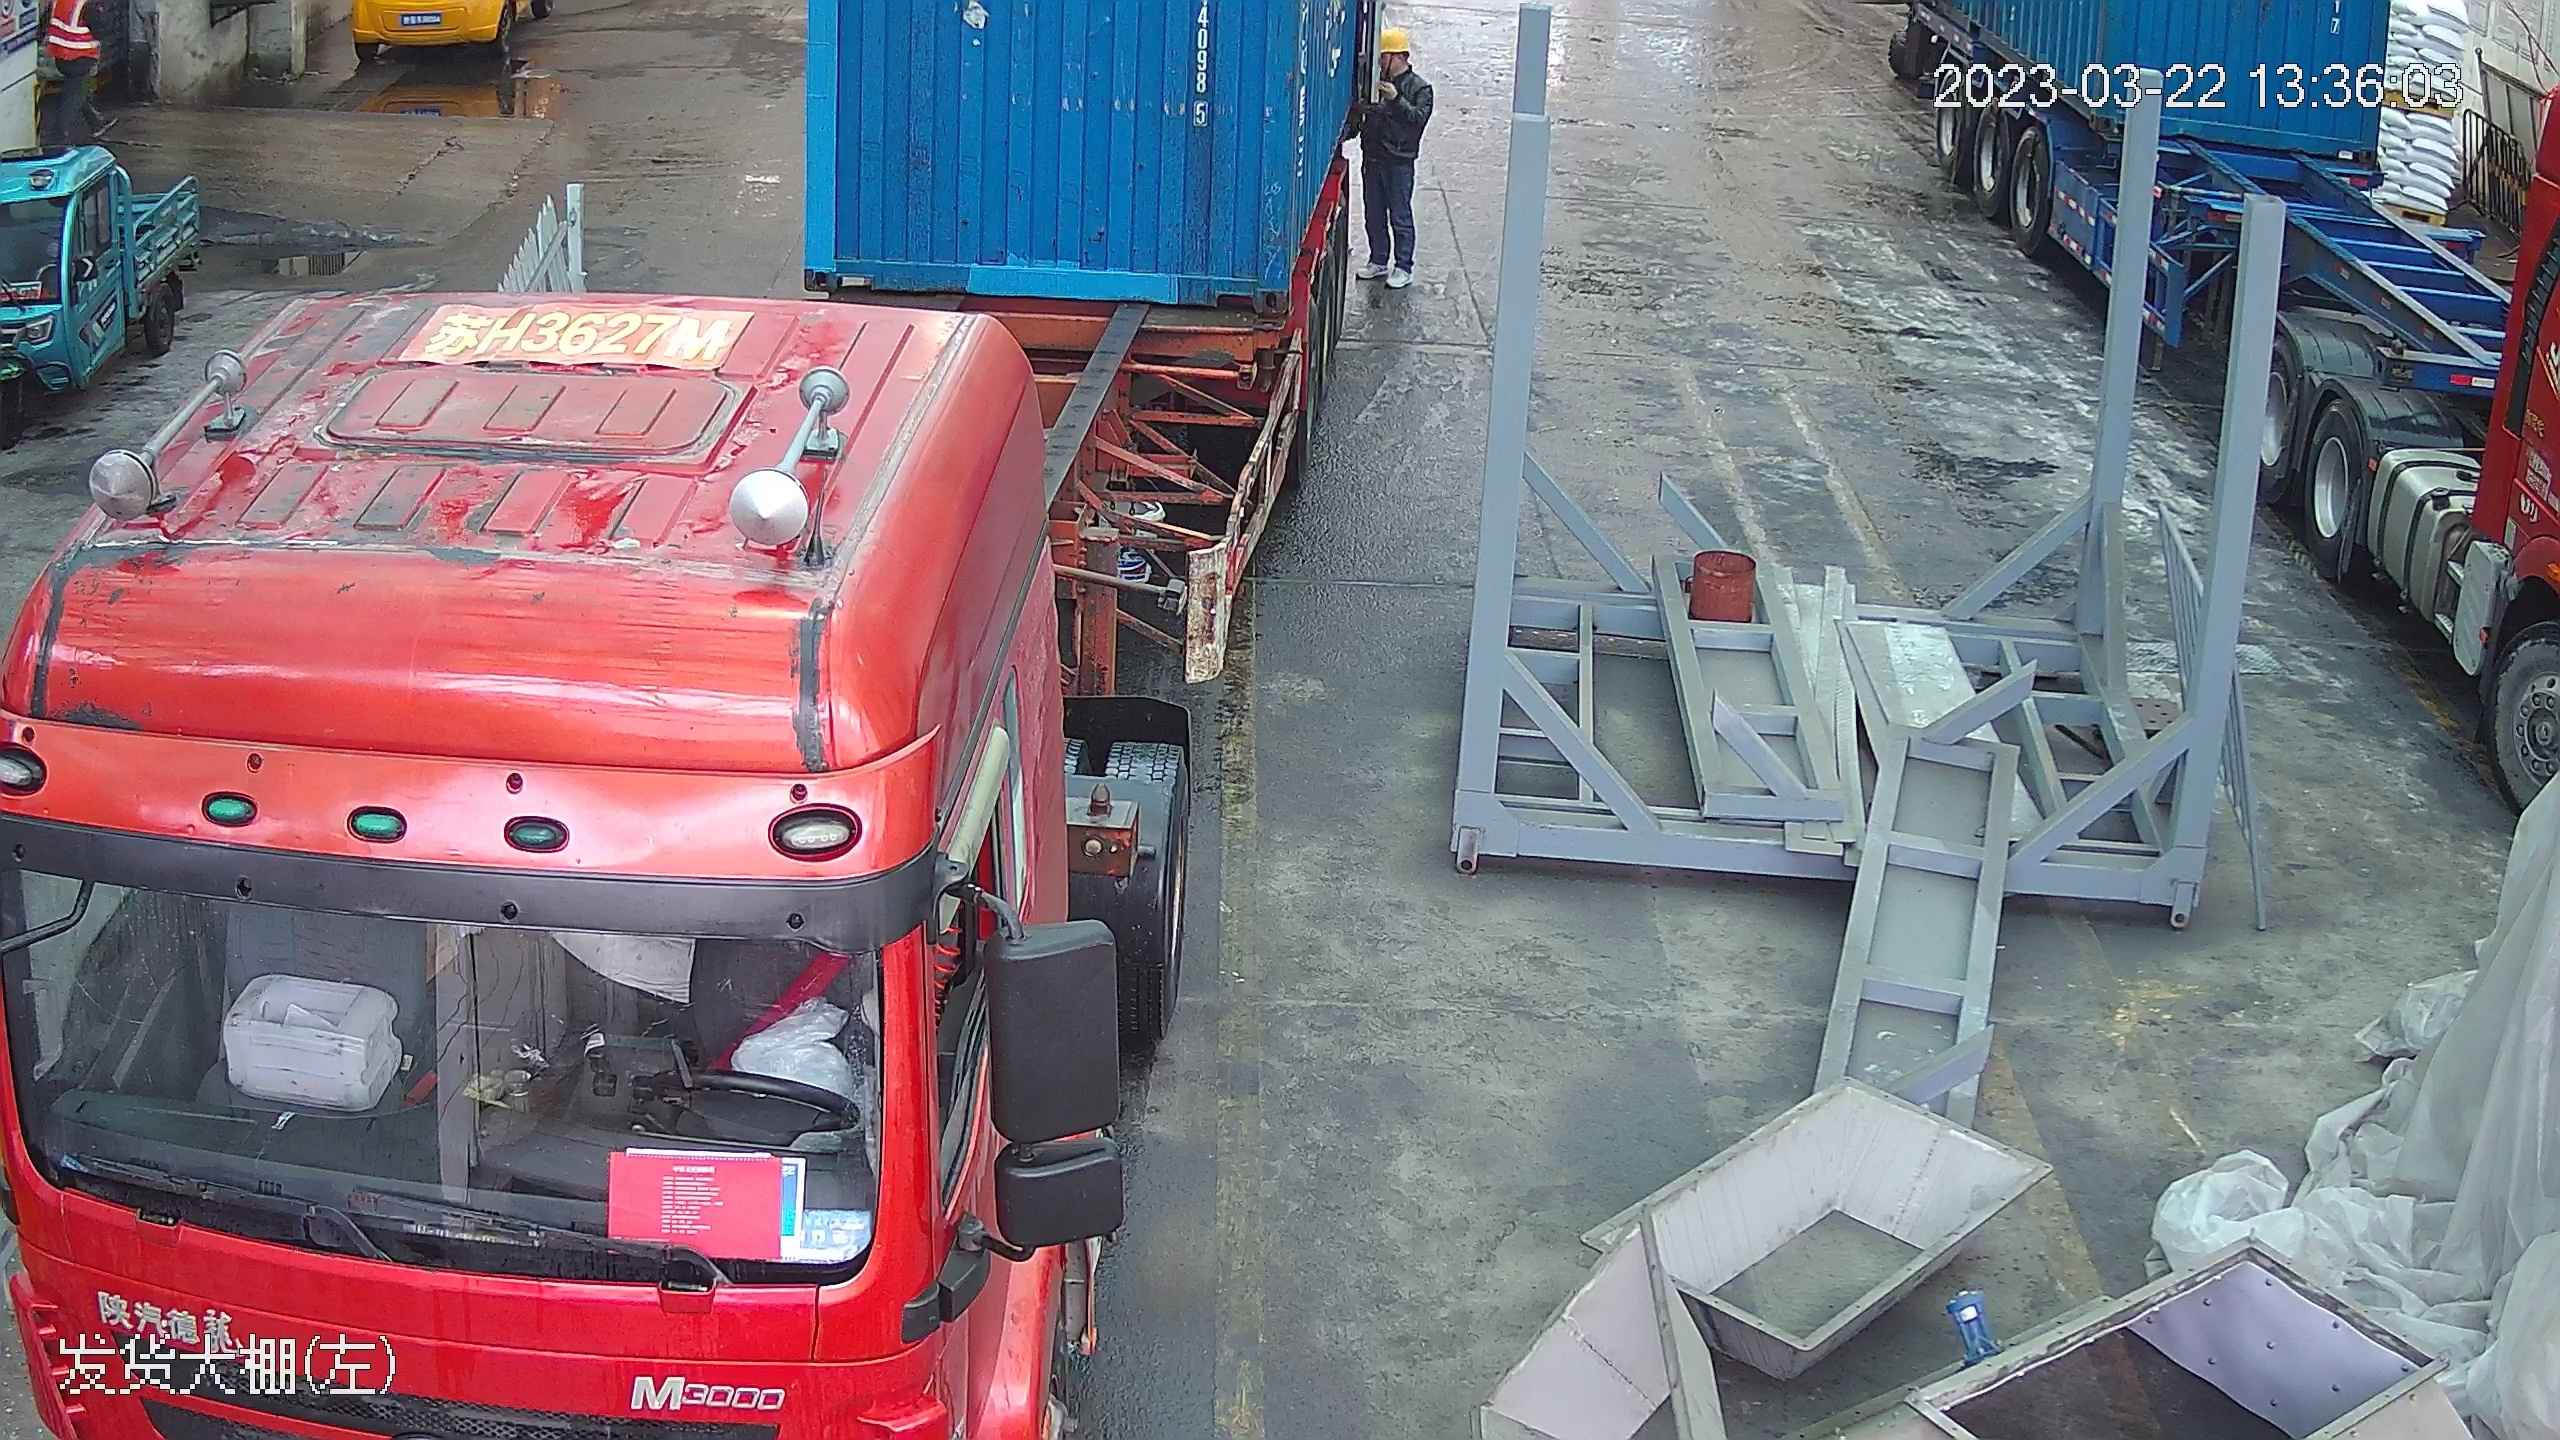head: (1359, 26, 1428, 99)
helmet: (1376, 25, 1413, 49)
people: (1348, 22, 1435, 284)
truck: (1, 1, 1378, 1440), (1883, 1, 2560, 816)
